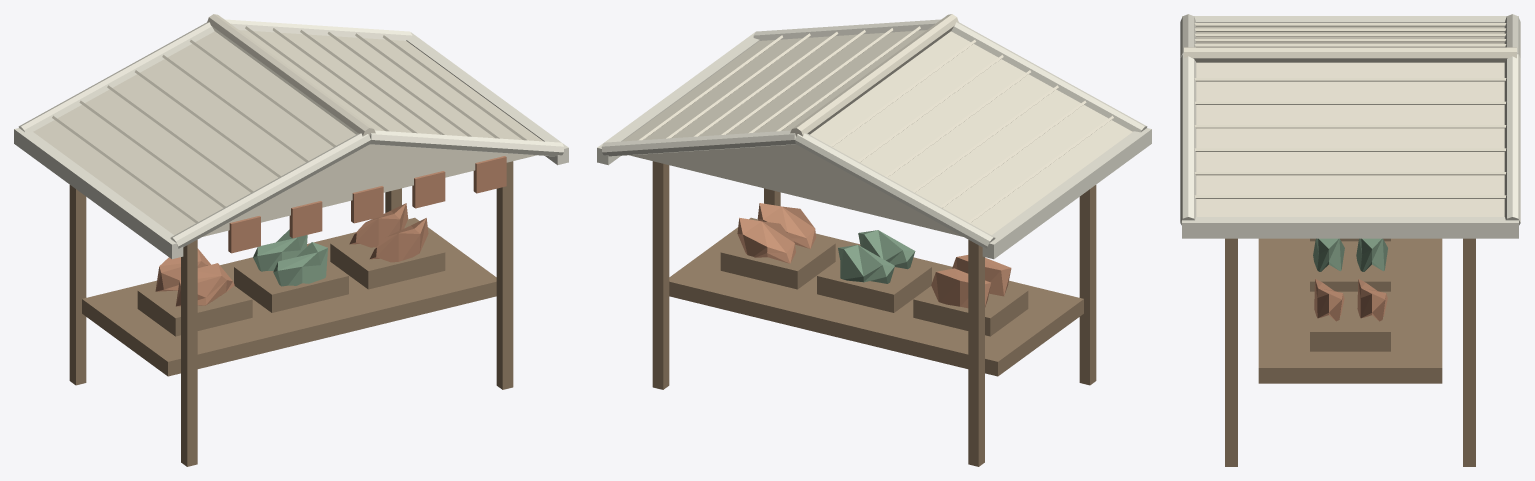
The picture shows the model from 3 angles, left to right: view 1: azimuth 30°, elevation 25°; view 2: azimuth 150°, elevation 25°; view 3: azimuth 270°, elevation 25°; orthographic projection. The views are drawn at different scales.
Size of the model in its own units: 4.53 by 3.41 by 3.15.
